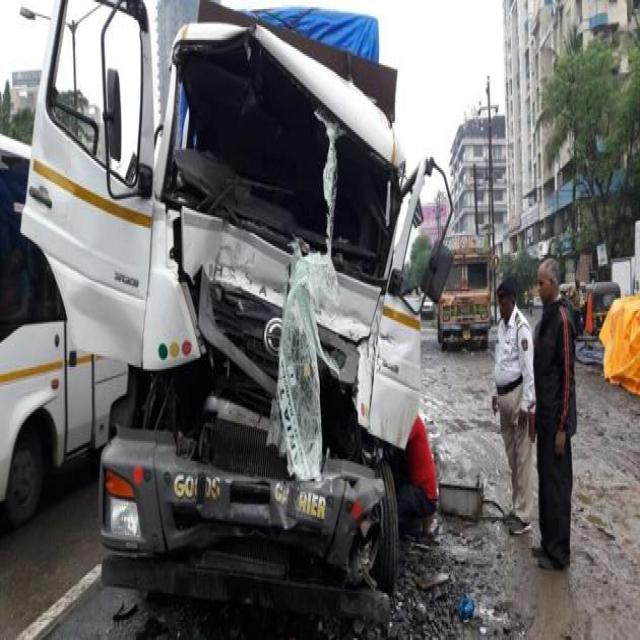accident: (23, 0, 443, 617)
truck: (437, 236, 491, 348)
